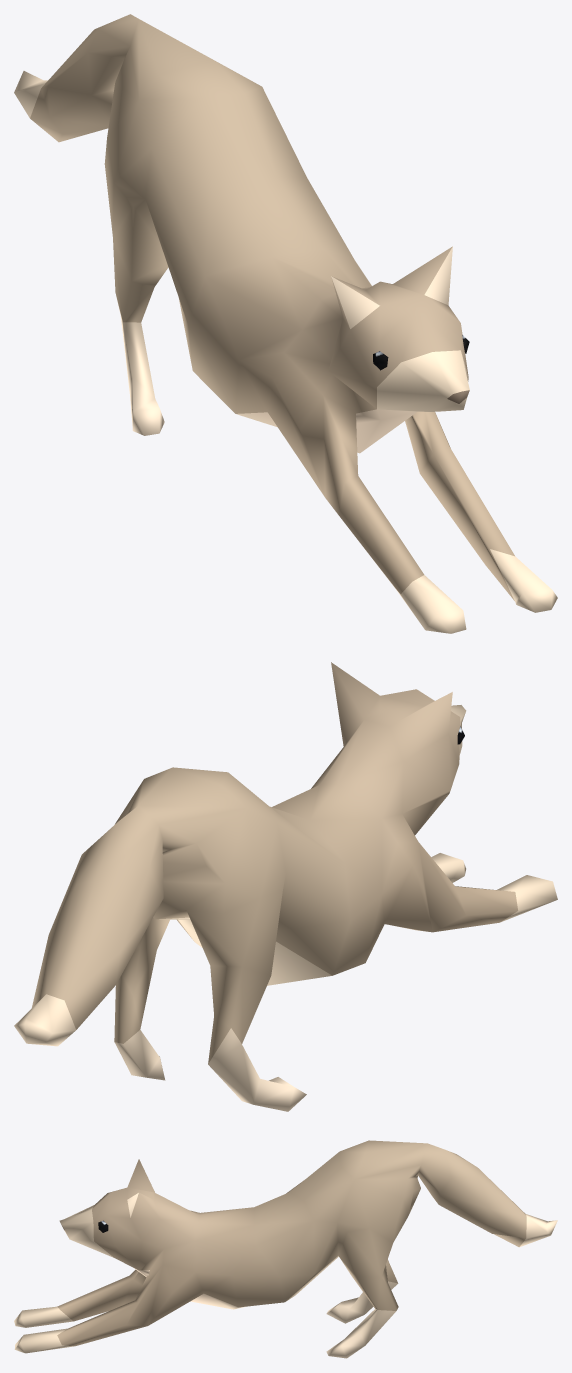
Rendered from Fox03.glb.
The picture shows the model from 3 angles, top to bottom: view 1: azimuth 30°, elevation 25°; view 2: azimuth 150°, elevation 25°; view 3: azimuth 270°, elevation 25°; orthographic projection. The views are drawn at different scales.
Visible parts, largest first — view 1: Fox03; view 2: Fox03; view 3: Fox03.
Part boxes in pixels (left/top/right/bottom): Fox03: left=14, top=14, right=557, bottom=633; Fox03: left=14, top=662, right=557, bottom=1111; Fox03: left=14, top=1140, right=557, bottom=1358.
Size of what is drawn, in the model's own units: 0.3269 by 0.6497 by 1.65.
Materials: 1 (1 with a texture image).
